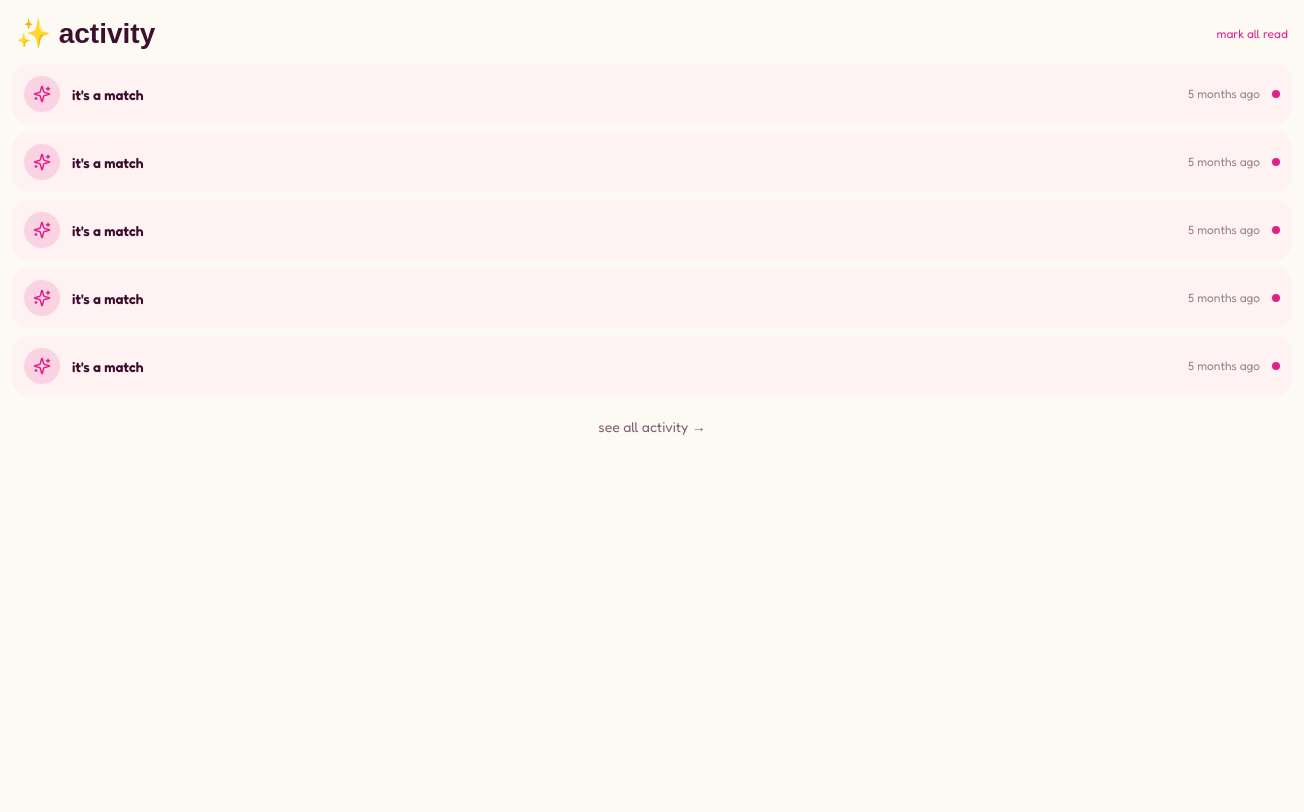
Test: ActivityList › collapses past the inline limit behind "see all activity"
Expected: the text "it's a match" is shown 5 times, [72,86,144,102]; [72,154,144,170]; [72,222,144,238]; [72,290,144,306]; [72,358,144,374]
What coordinates should you click on to do the following:
click the button "see all activity →"
I would click on:
 (652, 426)
Its box is [12,404,1292,448].
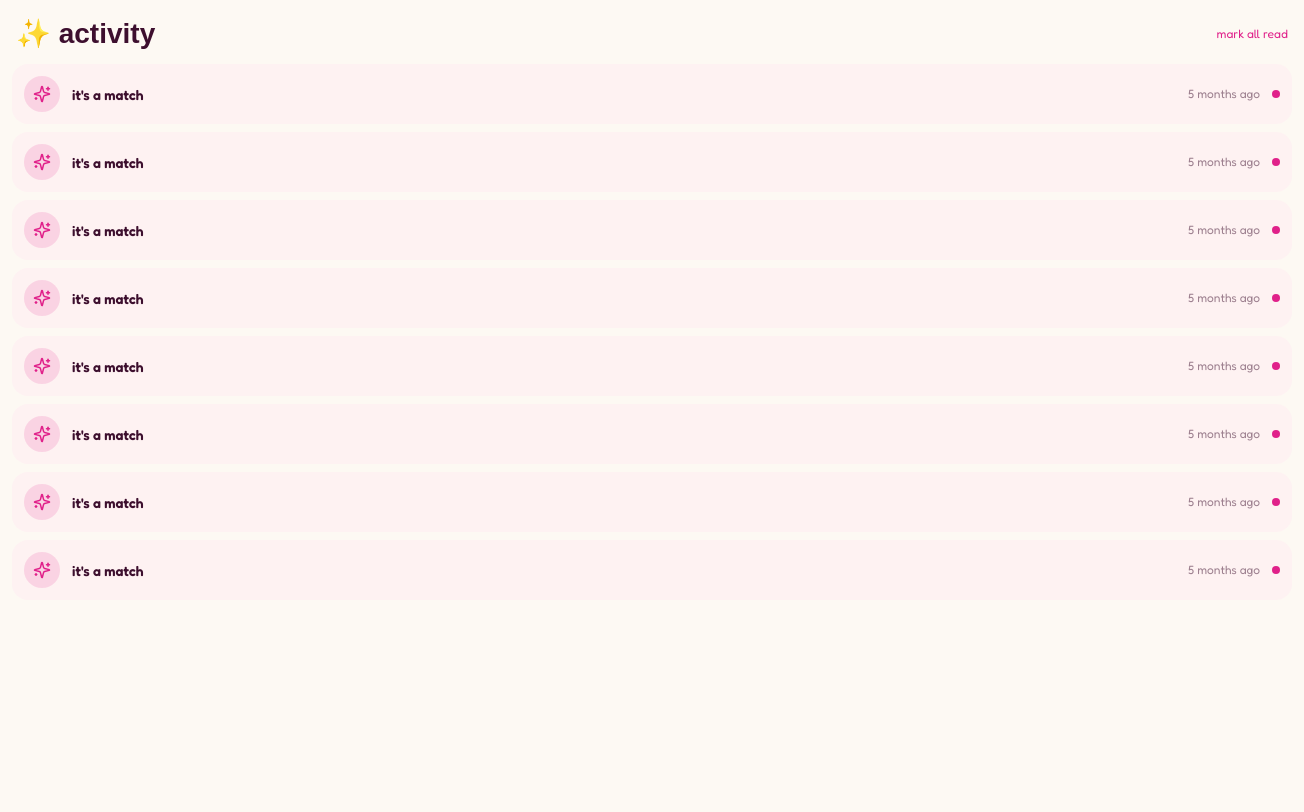
Expected: the text "it's a match" is shown 8 times
